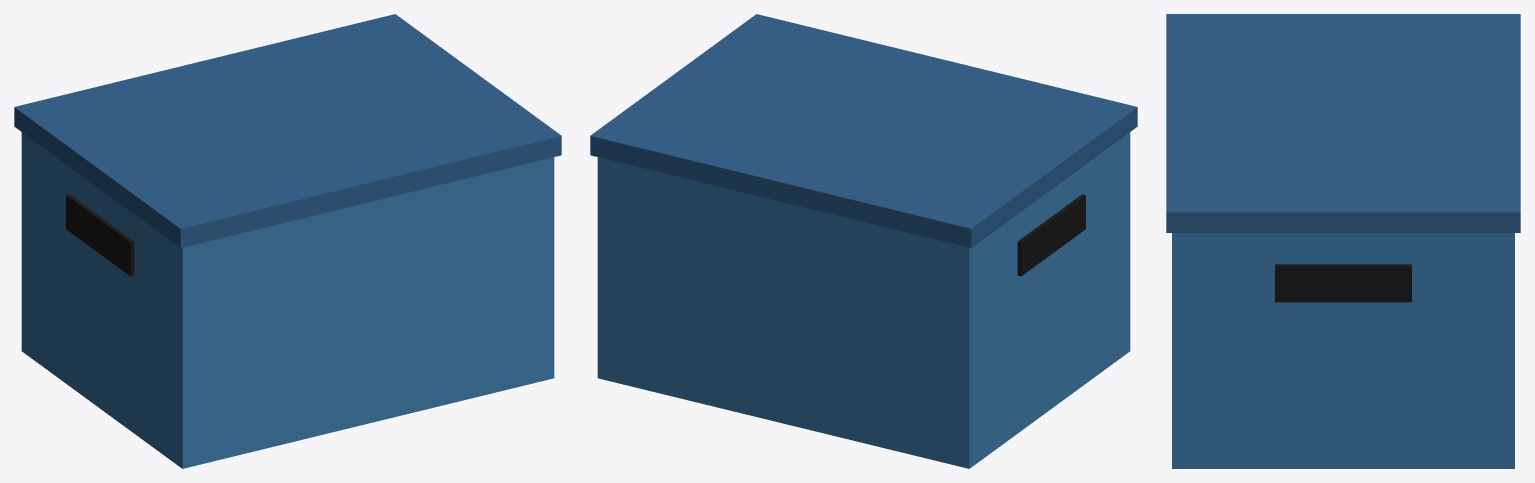
Rendered from sampleCrate.glb.
3 renders of one model, left to right at view 1: azimuth 30°, elevation 25°; view 2: azimuth 150°, elevation 25°; view 3: azimuth 270°, elevation 25°, orthographic. The views are drawn at different scales.
Parts seen in each view (by area): view 1: Crate body, Crate lid, Grip slot left; view 2: Crate body, Crate lid, Grip slot left; view 3: Crate lid, Crate body, Grip slot right.
Part boxes in pixels (<box>): Crate body: <box>21,132,554,468</box>; Crate lid: <box>14,14,561,248</box>; Grip slot left: <box>66,194,134,276</box>; Crate body: <box>597,132,1130,468</box>; Crate lid: <box>590,14,1137,248</box>; Grip slot left: <box>1017,194,1085,276</box>; Crate lid: <box>1166,14,1520,232</box>; Crate body: <box>1172,233,1514,468</box>; Grip slot right: <box>1275,264,1411,302</box>.
Size of the model in its own units: 0.41 by 0.25 by 0.31.
